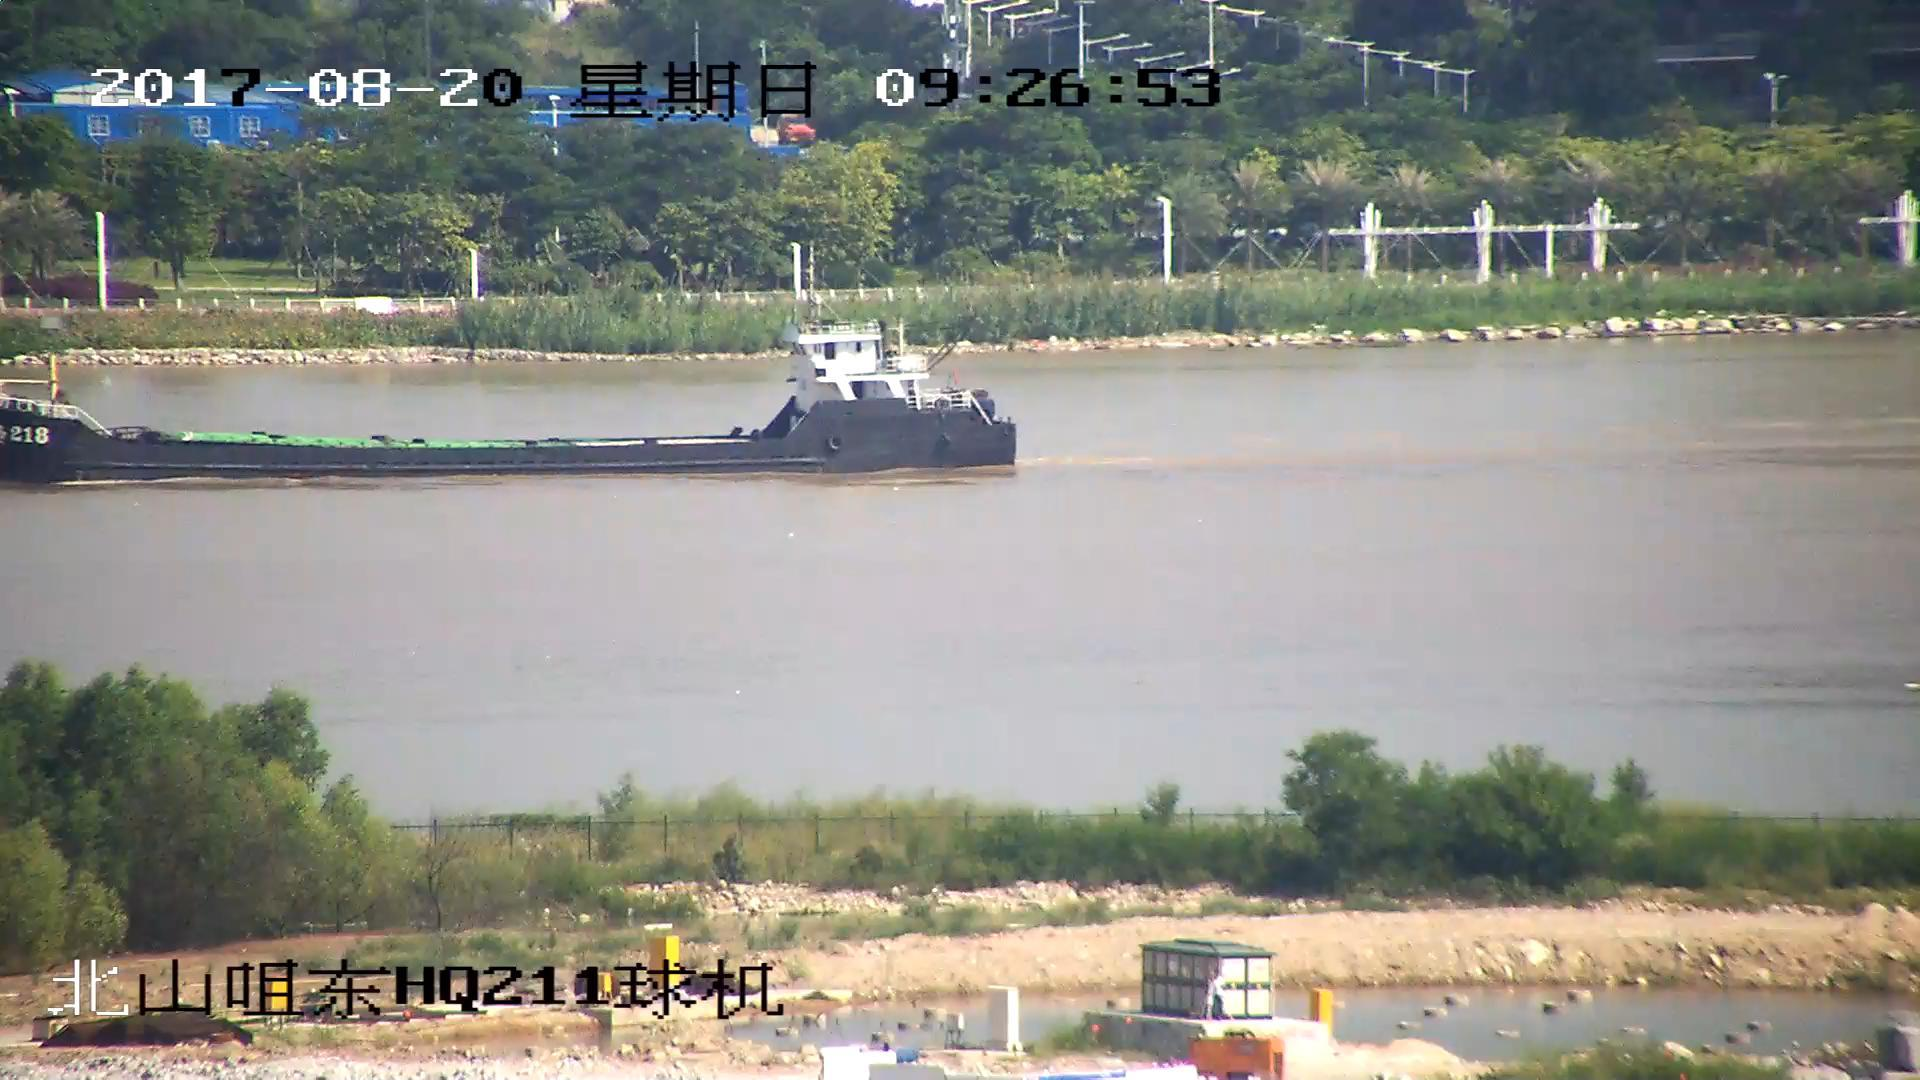Ship: (3, 316, 1025, 483)
